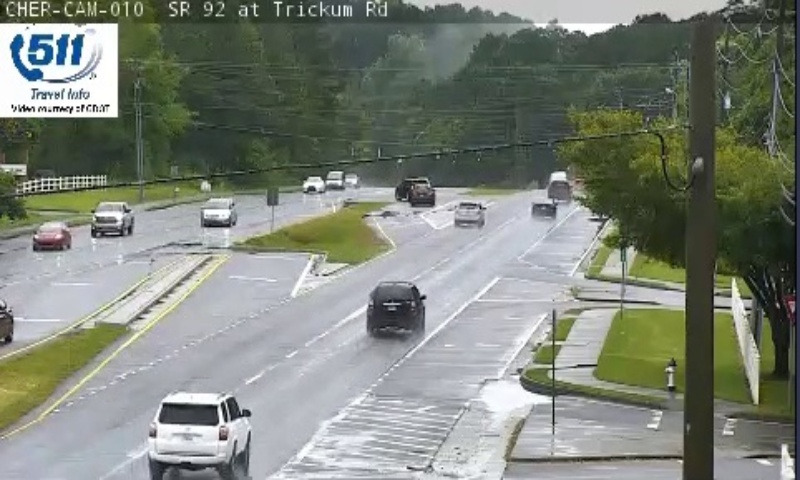car: (147, 391, 252, 467), (365, 281, 424, 328), (453, 202, 484, 227), (531, 196, 556, 216)
